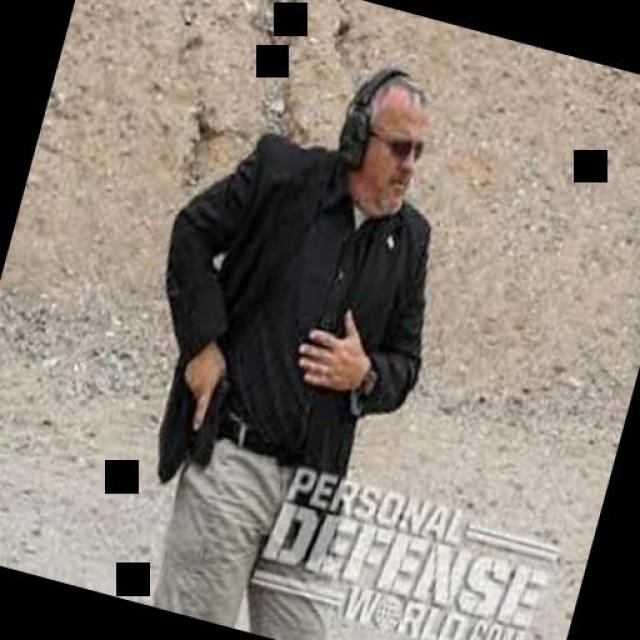gun: (152, 359, 234, 476)
